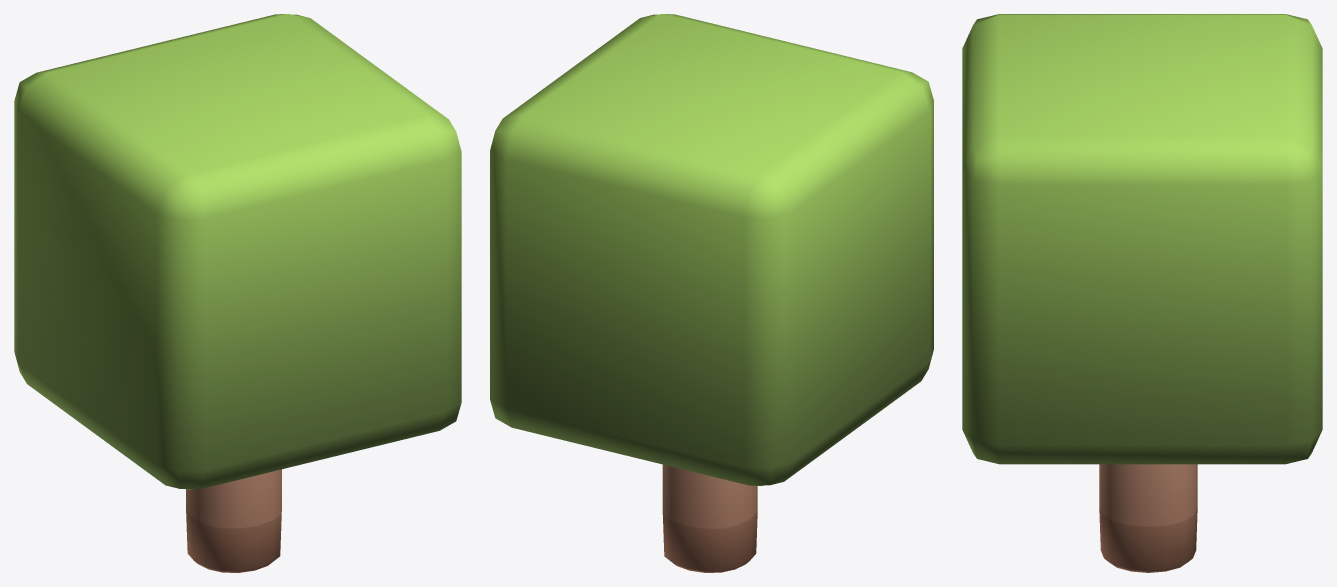
File: tree_9.fbx
3 views of the same model, side by side, from view 1: azimuth 30°, elevation 25°; view 2: azimuth 150°, elevation 25°; view 3: azimuth 270°, elevation 25° (orthographic). The views are drawn at different scales.
Parts seen in each view (by area): view 1: tree_9; view 2: tree_9; view 3: tree_9.
Boxes of the visible parts, x1,y1,x2,y2 form: tree_9: (14,14,461,572); tree_9: (490,14,933,572); tree_9: (962,14,1322,572).
Size of the model in its own units: 148 by 219 by 148.
